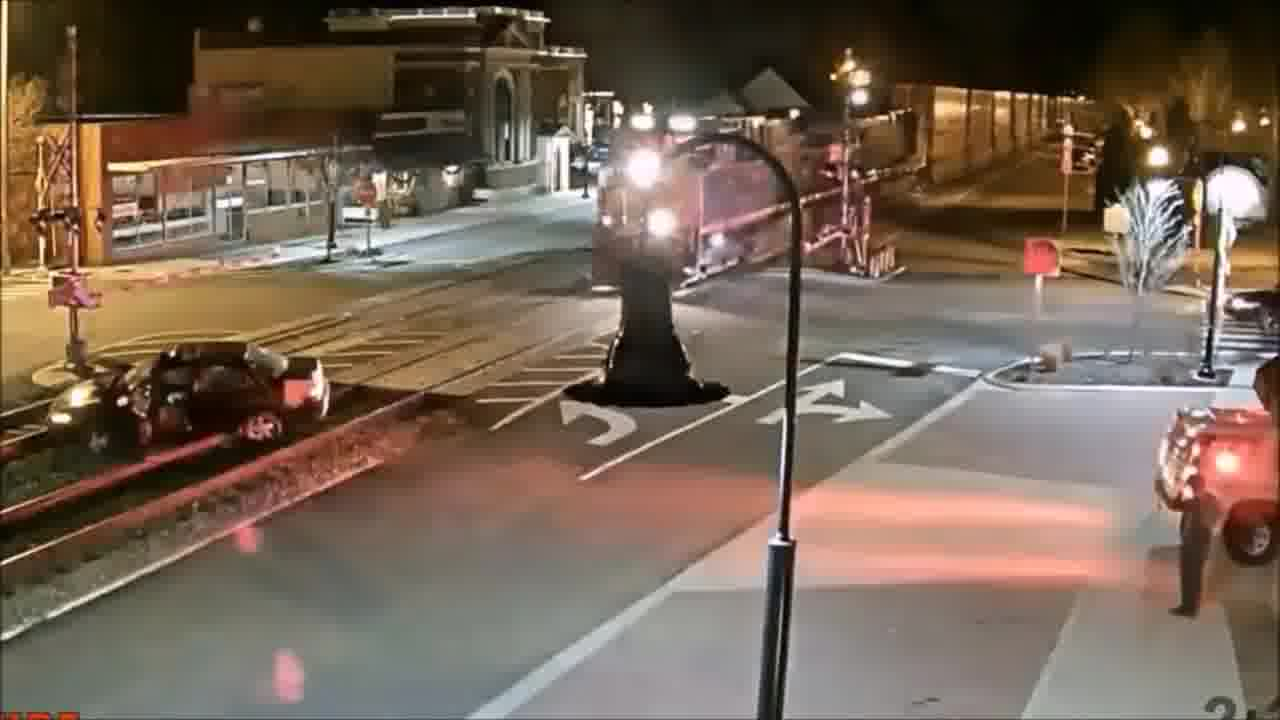crossing railway track: (33, 340, 345, 470)
